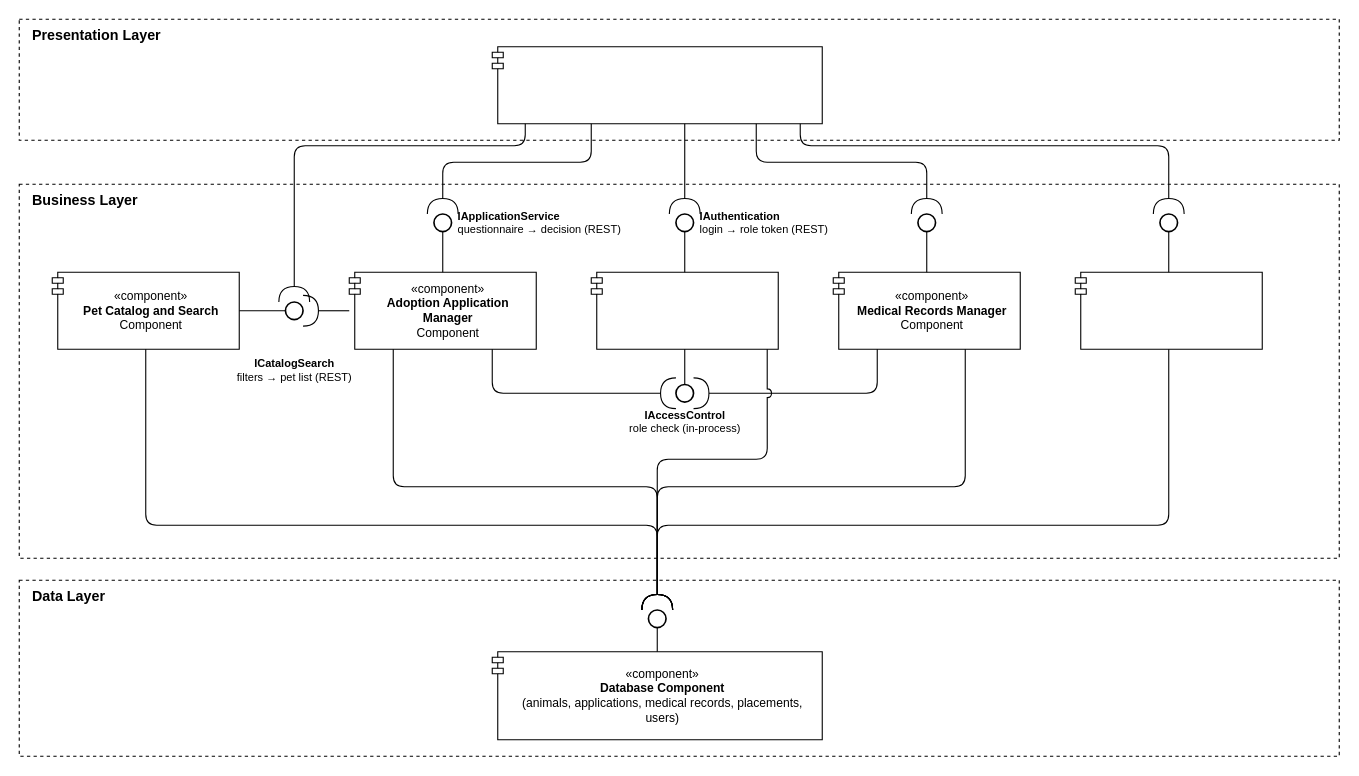
Image size: 1359x776. Some labels were removed from this diagram. Each missing label, with the centre of its shape:
"IDataAccess SQL / JDBC queries" belongs at (x=656, y=618).
"IFosterService placement (REST)" belongs at (x=1168, y=222).
"IMedicalRecordService intake data → status (REST)" belongs at (x=926, y=222).
"«component» Auth and Access Control Component" belongs at (x=684, y=310).
"«component» Foster Placement Manager Component" belongs at (x=1168, y=310).
"«component» Web UI Component (Applicant and Staff Portal)" belongs at (x=656, y=85).
